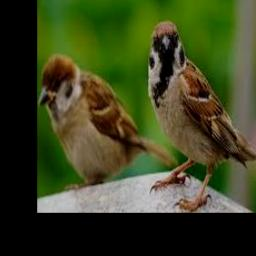Sparrow: (149, 21, 256, 211), (39, 54, 177, 190)
